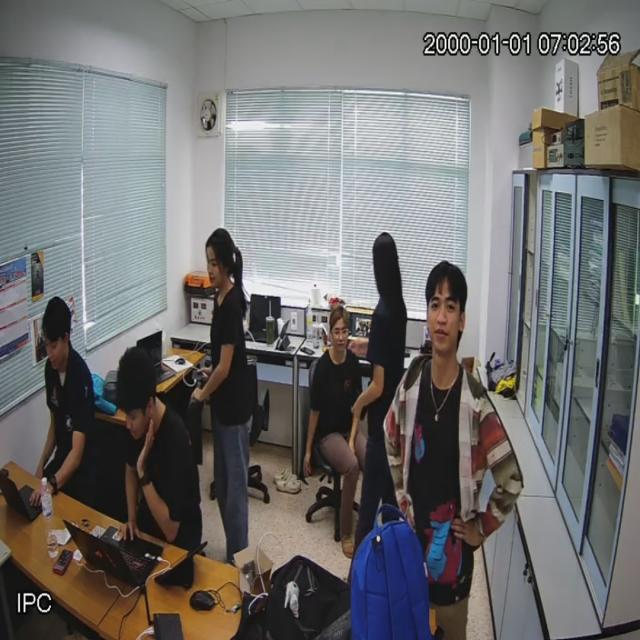normal: (400, 264, 508, 640), (197, 224, 256, 555), (116, 337, 192, 557), (356, 234, 405, 547), (300, 306, 362, 546), (34, 298, 95, 522)
